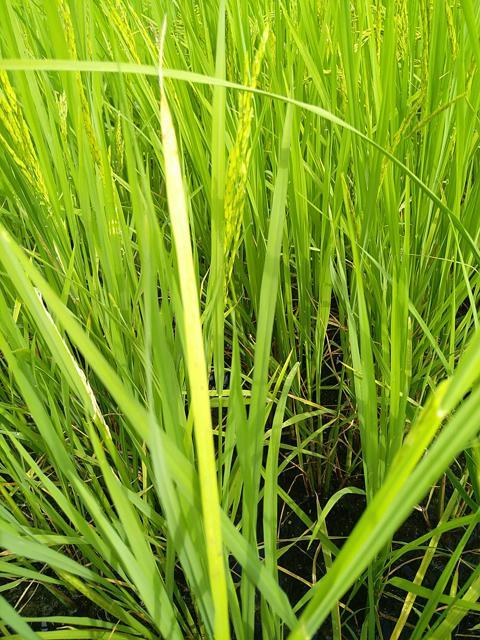Leaf Blight: (161, 75, 221, 562)
